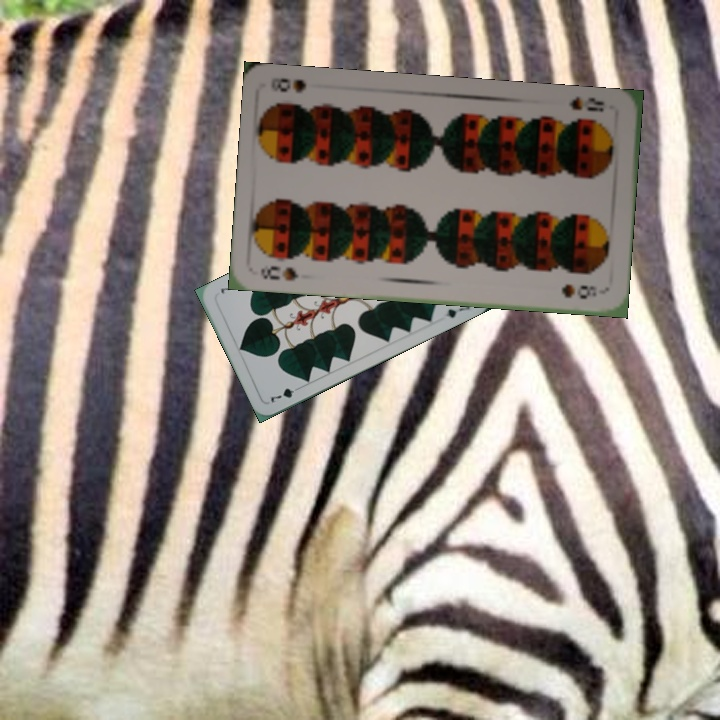G7: (266, 382, 304, 405)
S8: (256, 260, 301, 283), (565, 92, 606, 114)
